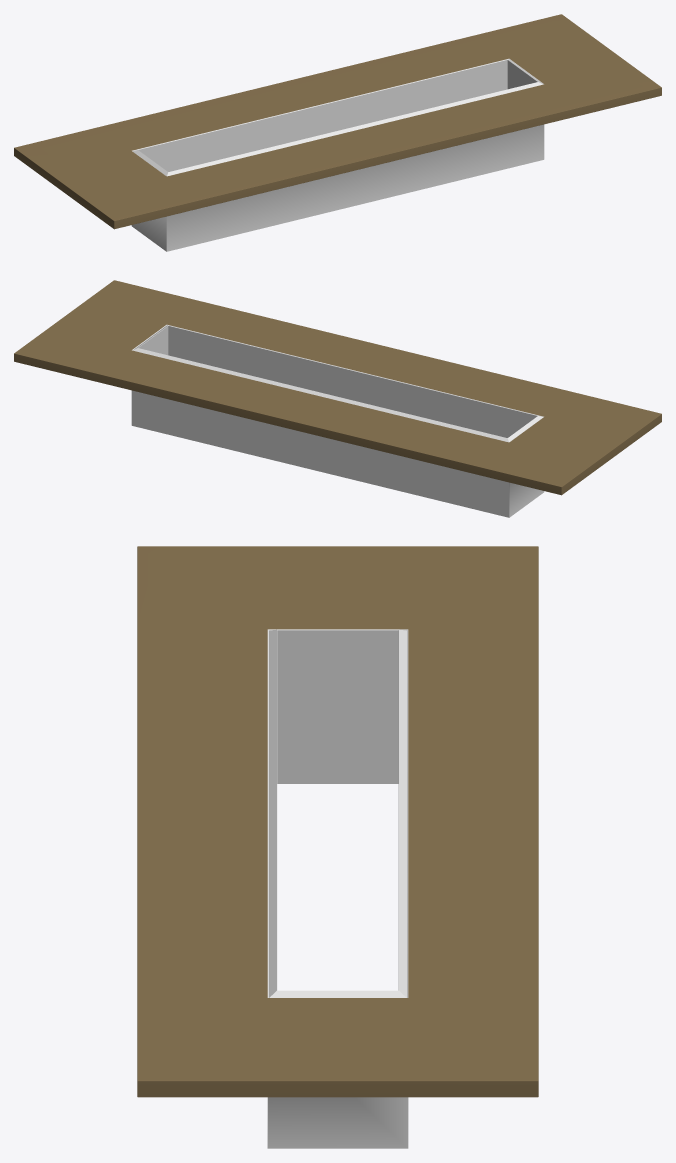
Rendered from Table_01.fbx.
3 views of the same model, one above another, from view 1: azimuth 30°, elevation 25°; view 2: azimuth 150°, elevation 25°; view 3: azimuth 270°, elevation 25° (orthographic). The views are drawn at different scales.
Parts seen in each view (by area): view 1: MeetingTable; view 2: MeetingTable; view 3: MeetingTable.
Part boxes in pixels (<box>): MeetingTable: <box>14,14,661,251</box>; MeetingTable: <box>14,280,661,517</box>; MeetingTable: <box>137,546,538,1148</box>.
Size of the model in its own units: 500 by 67.18 by 159.
Materials: 2 (1 with a texture image).
